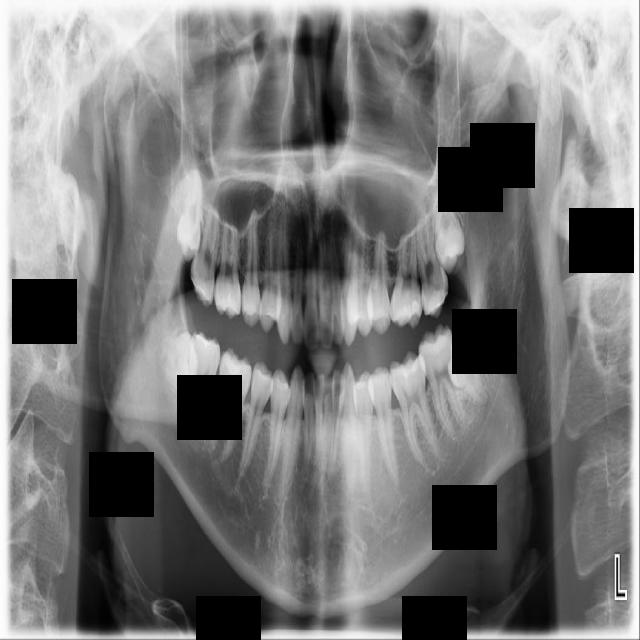3M ESPE Implant: (177, 168, 201, 262)
73: (592, 539, 600, 562)
BioHorizons Implant: (411, 190, 452, 320)
BioLife Implant: (430, 173, 467, 275)
Biomet 3i Implant: (443, 325, 499, 406)
Blue Sky Bio Implant: (414, 322, 468, 440)
Caries: (186, 180, 227, 308)
Implant: (184, 331, 222, 437)
Keystone Dental Implant: (157, 325, 214, 396)
